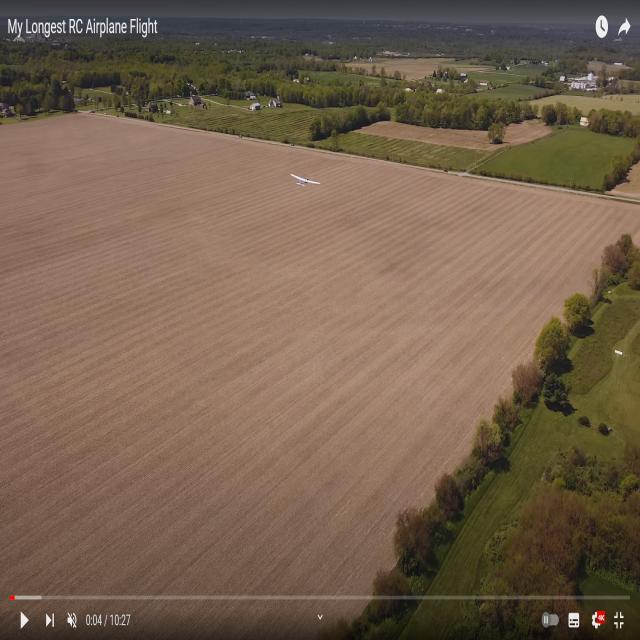iha: (289, 170, 319, 192)
